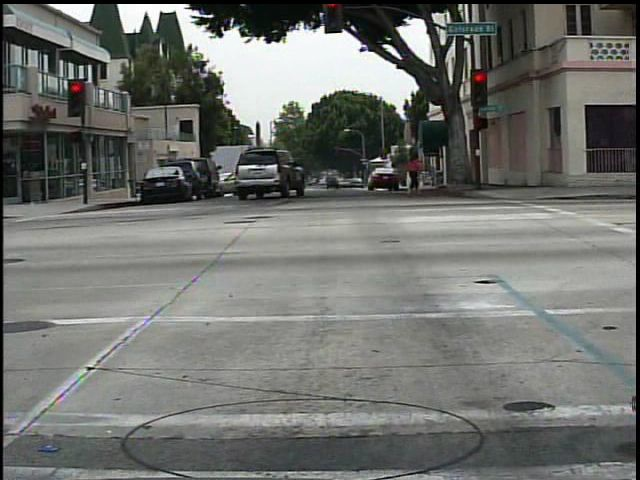person: (400, 149, 428, 197)
